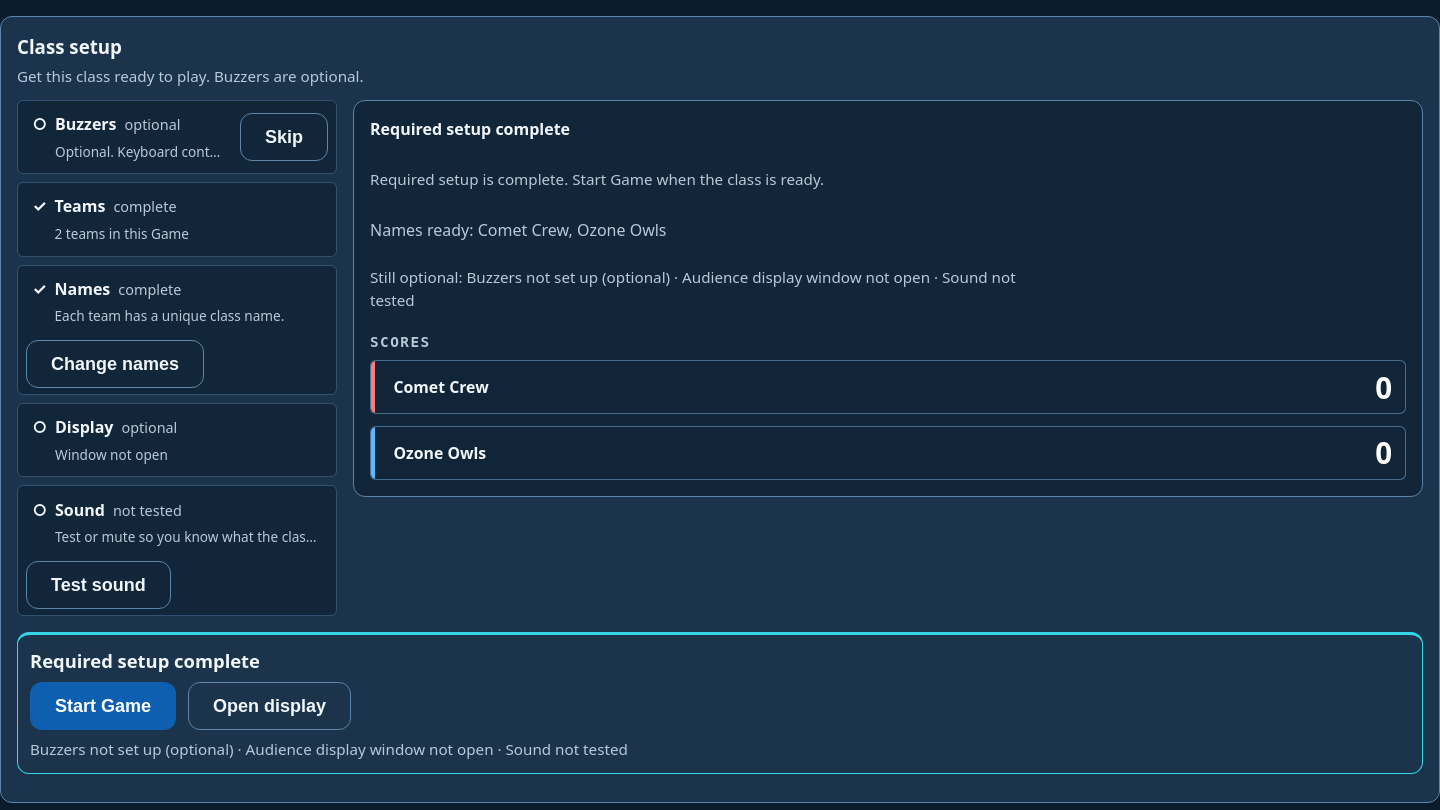
Test: ClassroomSetupPanel › revokes Ready when a required name is cleared after Ready
The width and height of the screenshot is (1440, 810).
expect the message "Required setup complete" is shown: met, box [30,648,260,673]
Click the button with test id "setup-revisit-names": point(115, 364) [26,340,204,388]
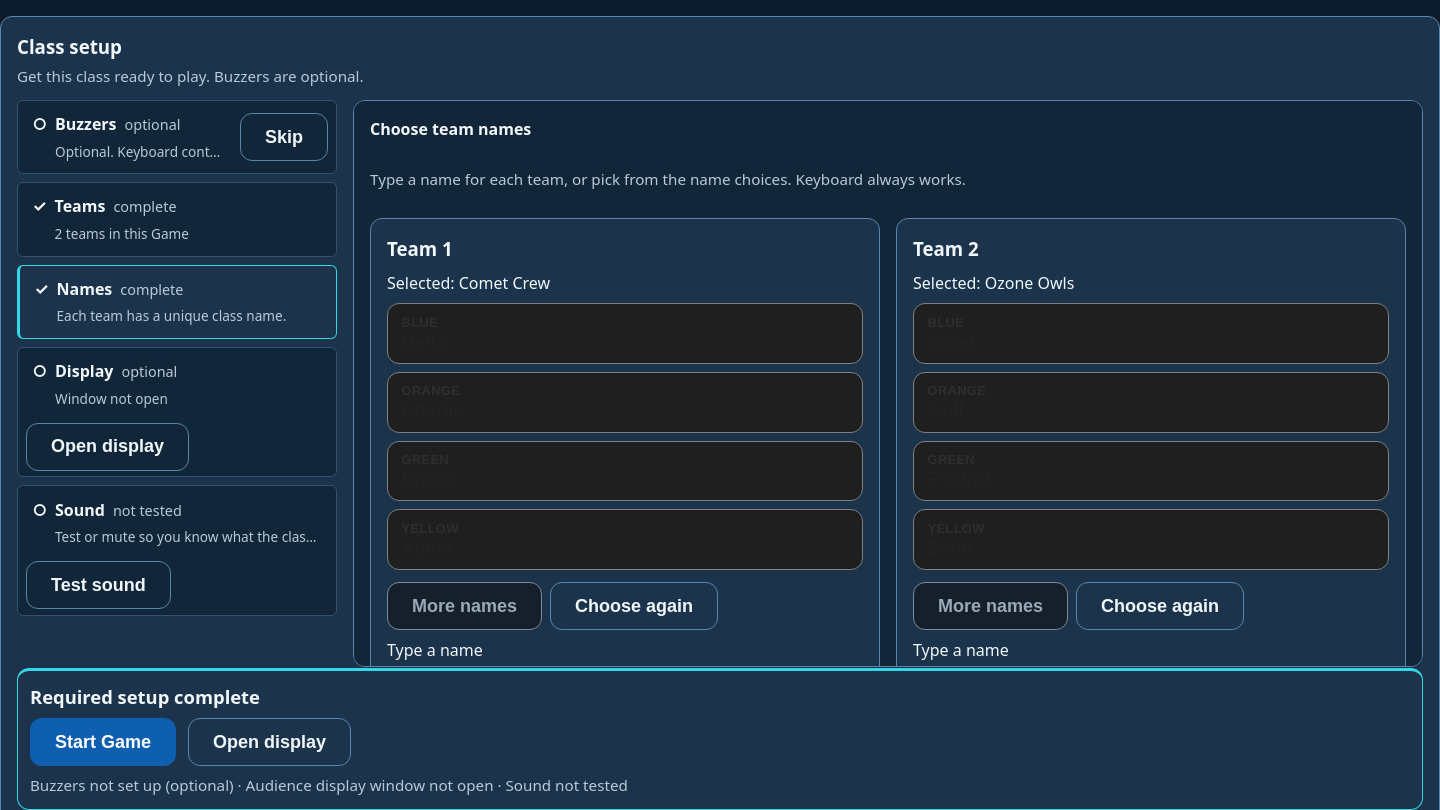
Click the button with test id "tnsb-reset-red": point(634, 606) [550,582,718,630]
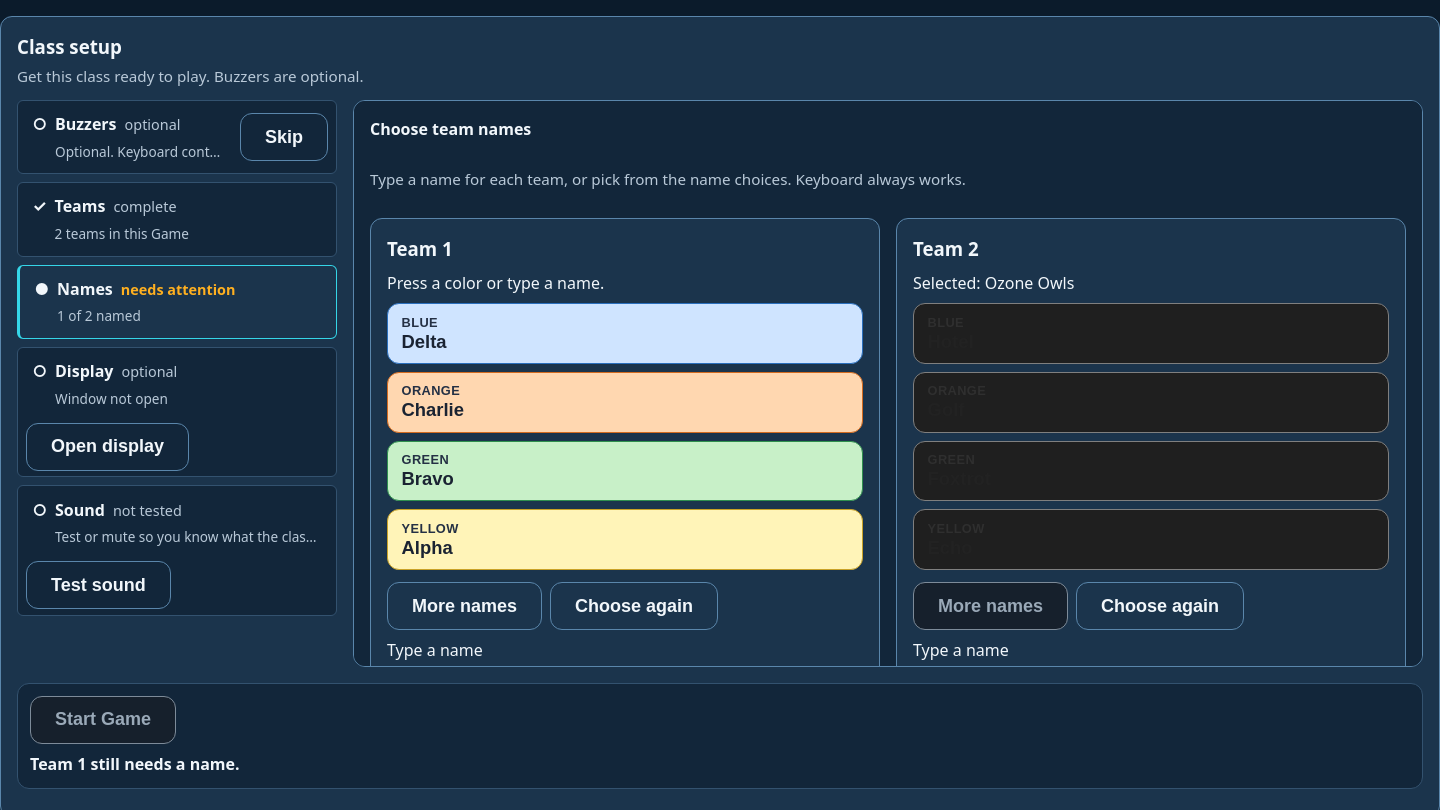
expect the message with test id "setup-ready-heading" is gone: met
expect the button with test id "setup-play" is disabled: met, box [30,696,176,744]
expect the message "Team 1 still needs a name." is shown: met, box [30,753,240,775]
